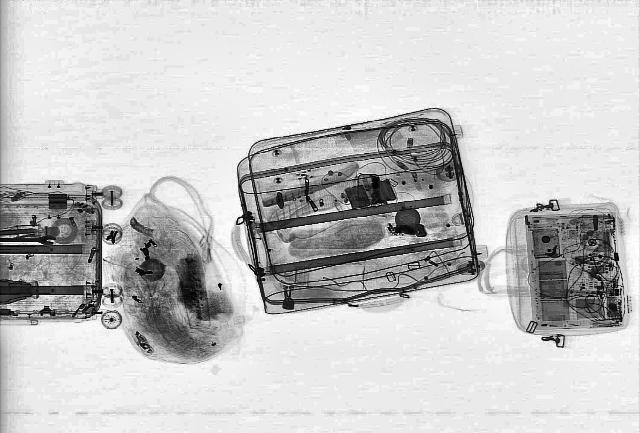Wrench: (3, 233, 57, 247)
